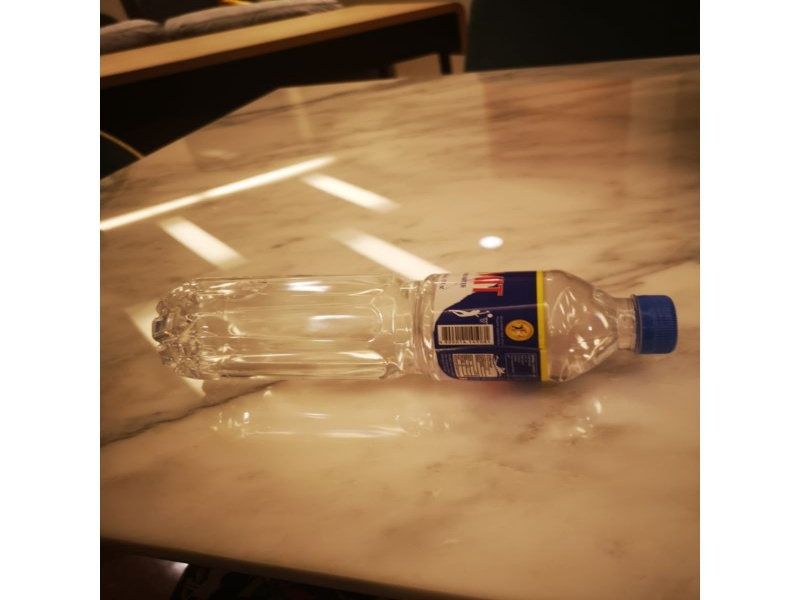PET #1: (151, 276, 686, 383)
